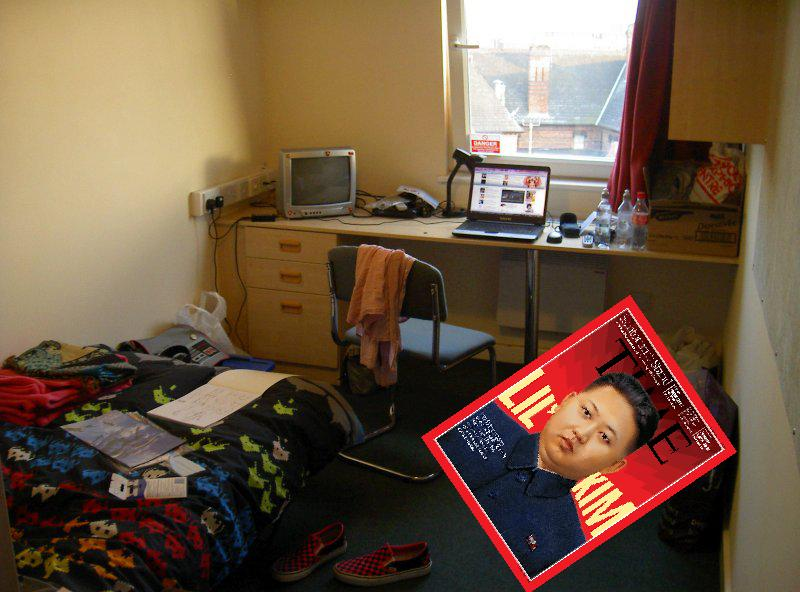times: (419, 295, 736, 586)
